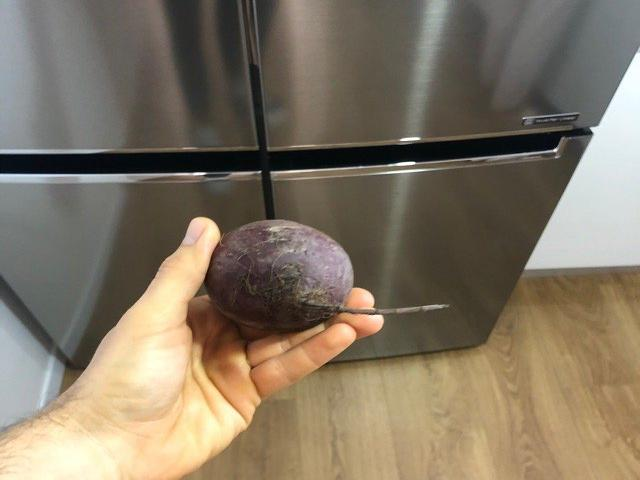beet: (206, 218, 450, 331)
